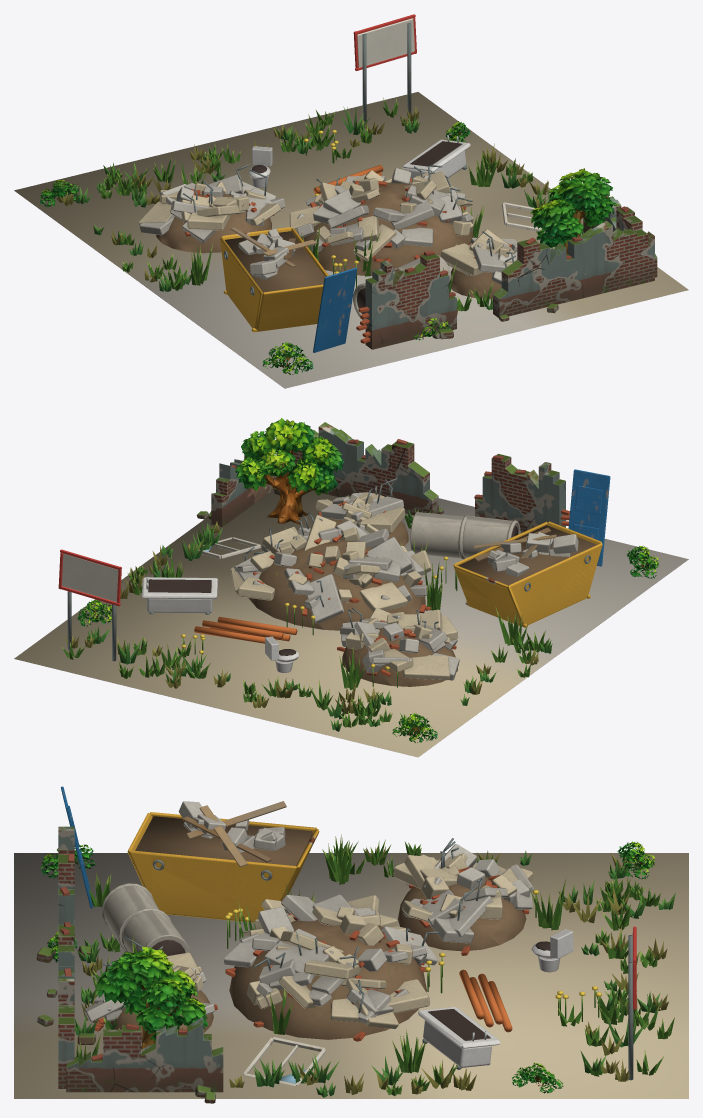
The model's file is Lot_Entulho.fbx.
The picture shows the model from 3 angles, top to bottom: view 1: azimuth 30°, elevation 25°; view 2: azimuth 150°, elevation 25°; view 3: azimuth 270°, elevation 25°; orthographic projection. The views are drawn at different scales.
Visible parts, largest first — view 1: ENT_pad, ENT_rubble, ENT_wall, ENT_green, ENT_junk; view 2: ENT_pad, ENT_rubble, ENT_green, ENT_wall, ENT_junk; view 3: ENT_pad, ENT_rubble, ENT_green, ENT_wall, ENT_junk.
Boxes of the visible parts, box(x1,y1,x2,y2) form: ENT_pad: box(14, 92, 688, 388); ENT_rubble: box(138, 164, 517, 332); ENT_wall: box(353, 14, 657, 349); ENT_green: box(39, 97, 645, 374); ENT_junk: box(248, 135, 546, 352); ENT_pad: box(14, 490, 688, 757); ENT_rubble: box(230, 478, 602, 686); ENT_green: box(61, 418, 659, 742); ENT_wall: box(58, 422, 569, 661); ENT_junk: box(142, 469, 610, 672); ENT_pad: box(14, 853, 688, 1098); ENT_rubble: box(84, 801, 533, 1042); ENT_green: box(40, 834, 675, 1097); ENT_wall: box(36, 826, 636, 1103); ENT_junk: box(61, 786, 573, 1085).
Bounding box in the file's own units: 10.25 × 2.35 × 11.6.
Materials: 1 (1 with a texture image).
